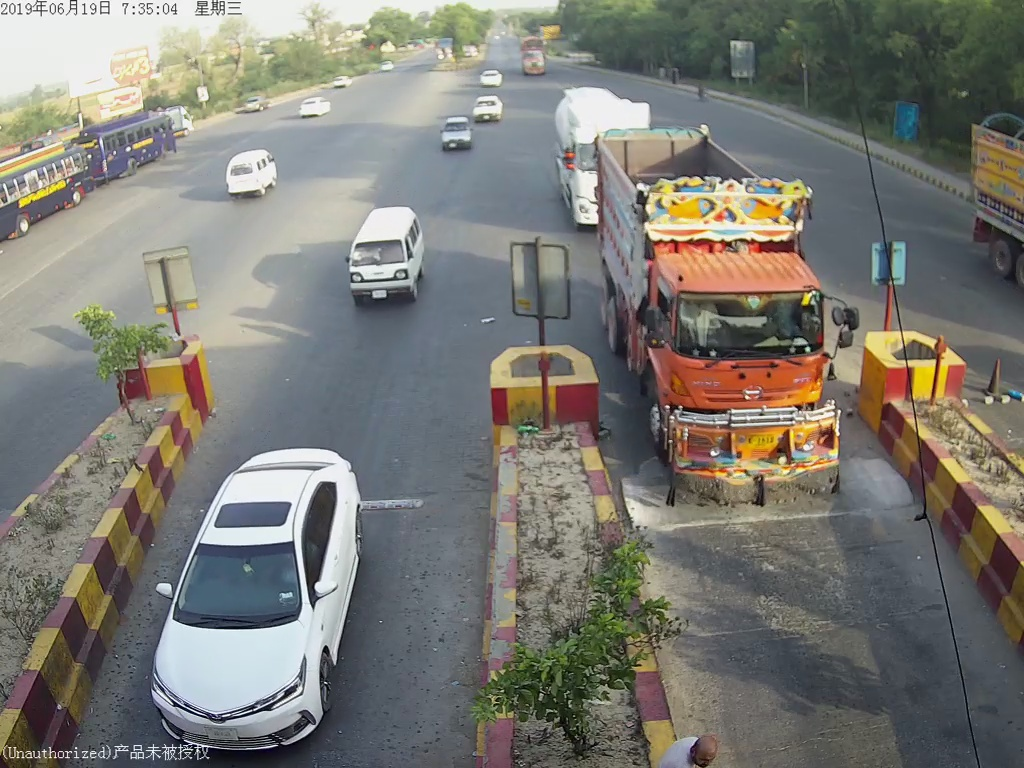Cat-1: (144, 463, 368, 729), (334, 203, 422, 305)
Cat-4: (598, 127, 856, 503)
